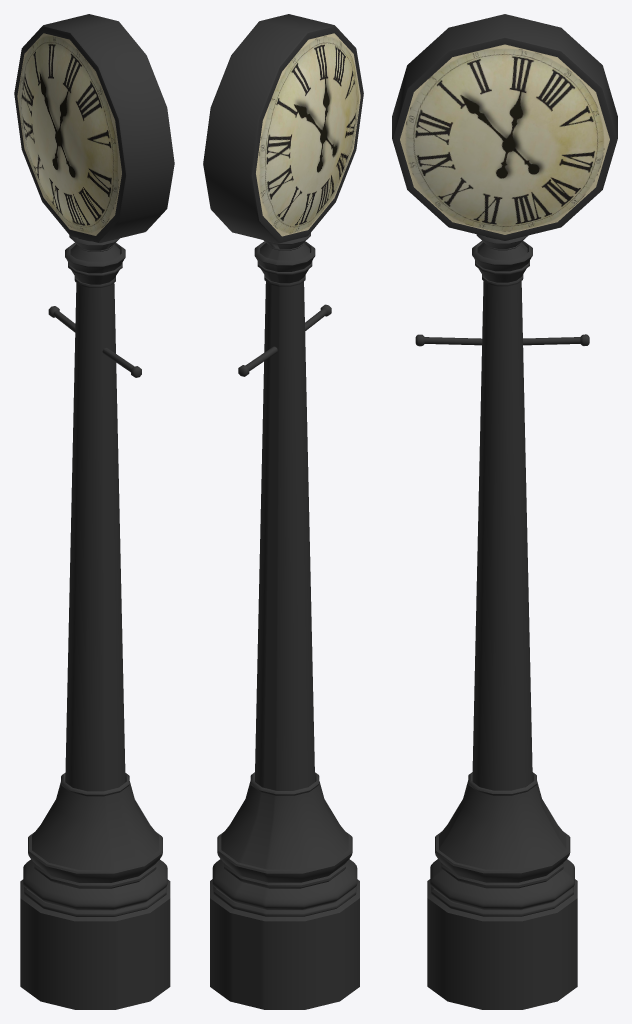
Rendered from PoleClock.FBX.
3 renders of one model, left to right at view 1: azimuth 30°, elevation 25°; view 2: azimuth 150°, elevation 25°; view 3: azimuth 270°, elevation 25°, orthographic.
Visible parts, largest first — view 1: PoleClock; view 2: PoleClock; view 3: PoleClock.
Part boxes in pixels (<box>): PoleClock: <box>14,14,174,1009</box>; PoleClock: <box>203,14,363,1009</box>; PoleClock: <box>392,14,617,1009</box>.
Bounding box in the file's own units: 20.2 × 141 × 30.36.
Materials: 2 (1 with a texture image).
